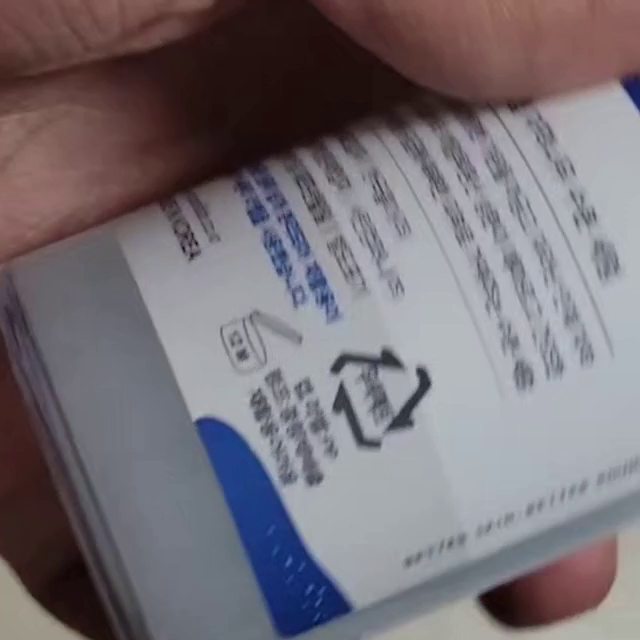ColorlessPet: (327, 346, 434, 451)
